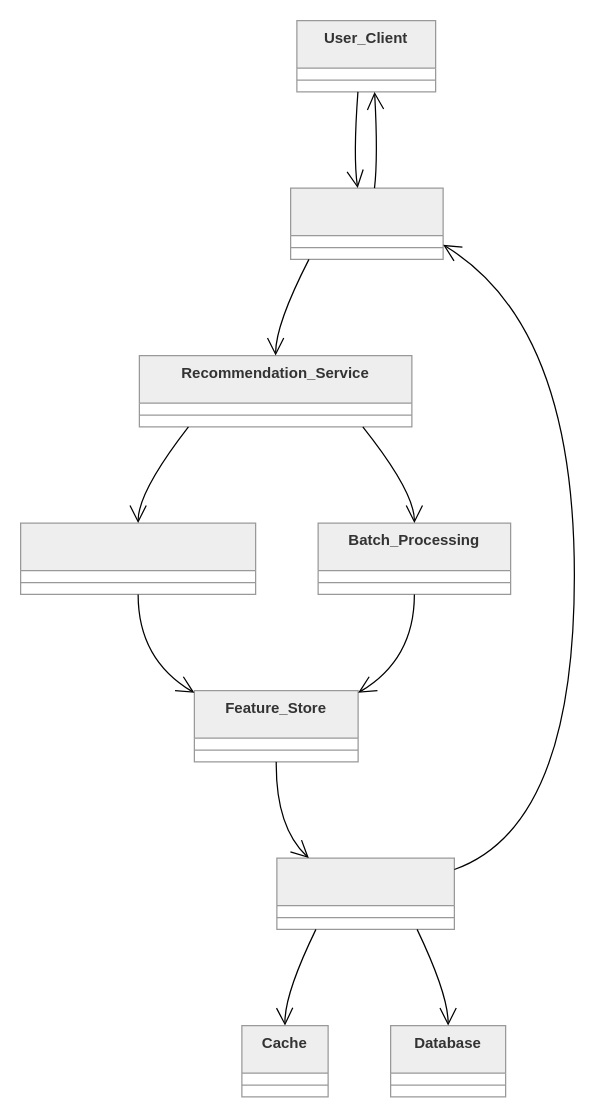
The diagram is 595 pixels wide and 1118 high, and some of its shapes have lost their labels. The shapes that lost their labels are listed below. From the top down, each one's centre as x and y in pixels, then its label:
At (366,223): "API_Gateway".
At (137,558): "Real_time_Processing".
At (365,893): "Ranking_Engine".
